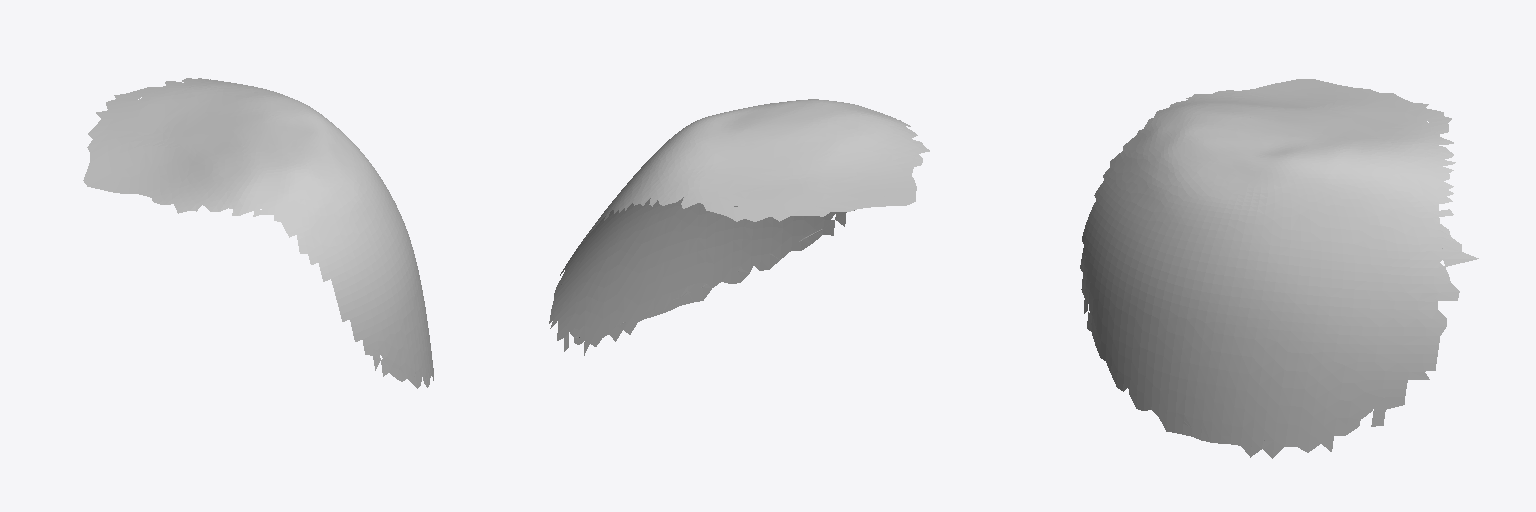
File: cavity.obj
3 views of the same model, side by side, from view 1: azimuth 30°, elevation 25°; view 2: azimuth 150°, elevation 25°; view 3: azimuth 270°, elevation 25° (orthographic).
Visible parts, largest first — view 1: hole; view 2: hole; view 3: hole.
Boxes of the visible parts, <box> form: hole: <box>83,78,433,388</box>; hole: <box>549,99,929,355</box>; hole: <box>1080,79,1478,458</box>.
Size of the model in its own units: 56.4 by 43.37 by 61.81.